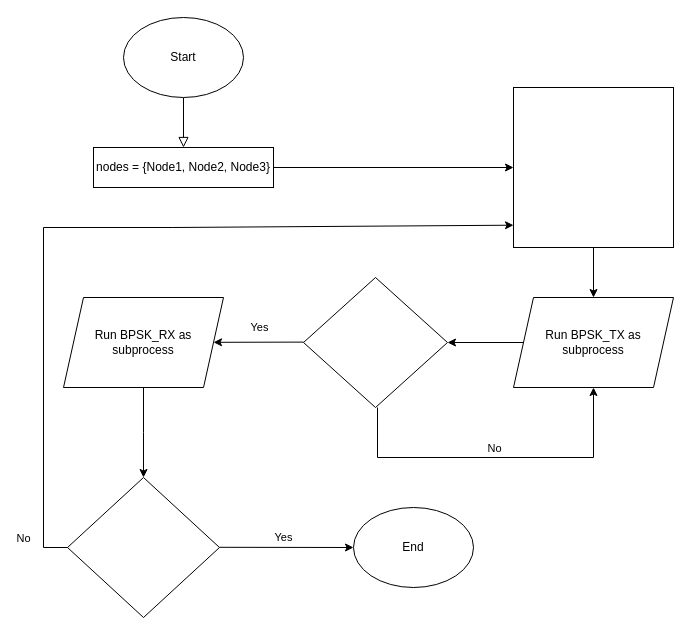
This 692x635 diagram has some shape labels left out. Here are the shapes that lost their labels. From the top down, the box of each, then its label:
(512, 86, 674, 248): For each Node in nodes Generate Master Command & Save to Command.txt
(302, 276, 448, 408): Ack Received?
(66, 476, 220, 618): 6 sets of data receieved?
